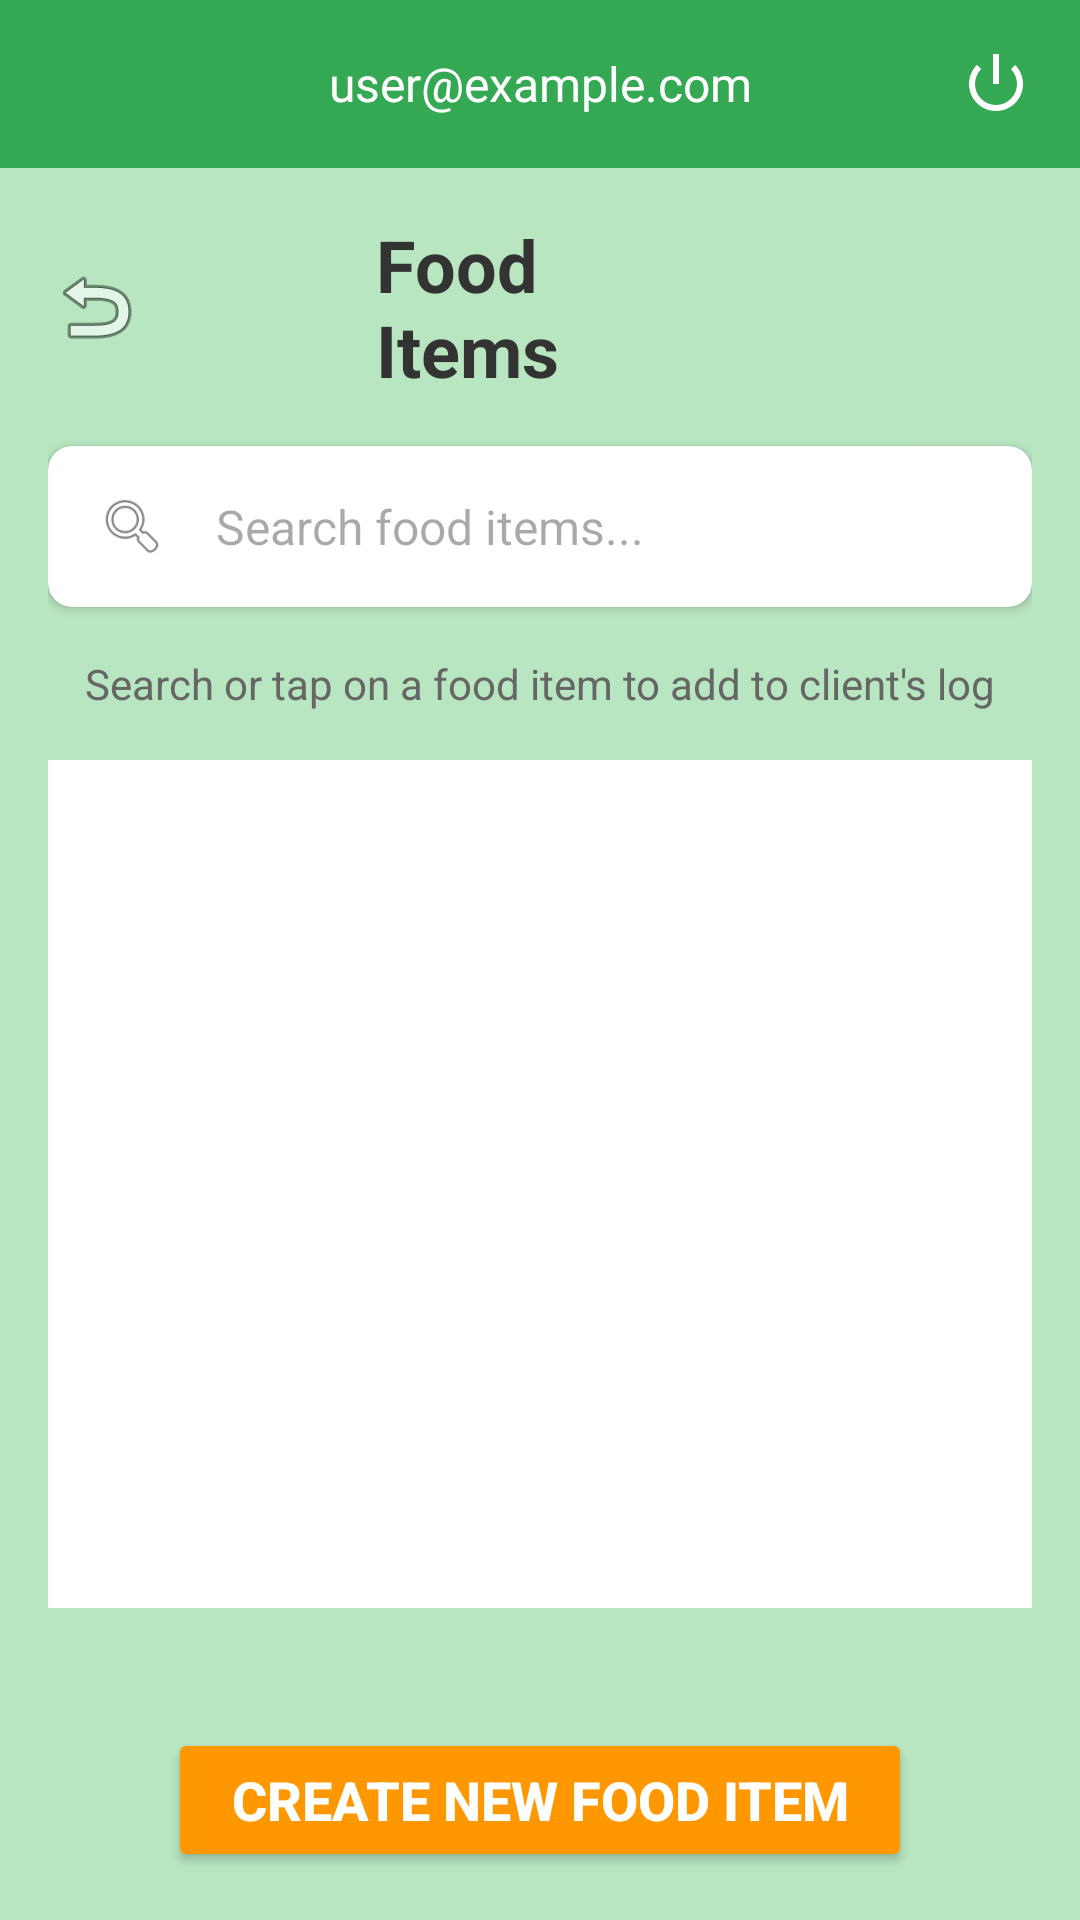

Icon click points for this 1080×1920 phone screenshot, format point (x, y):
Back: point (97, 307)
